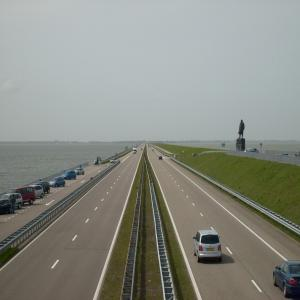Vehicle-registration-plate: (208, 249, 215, 252)
